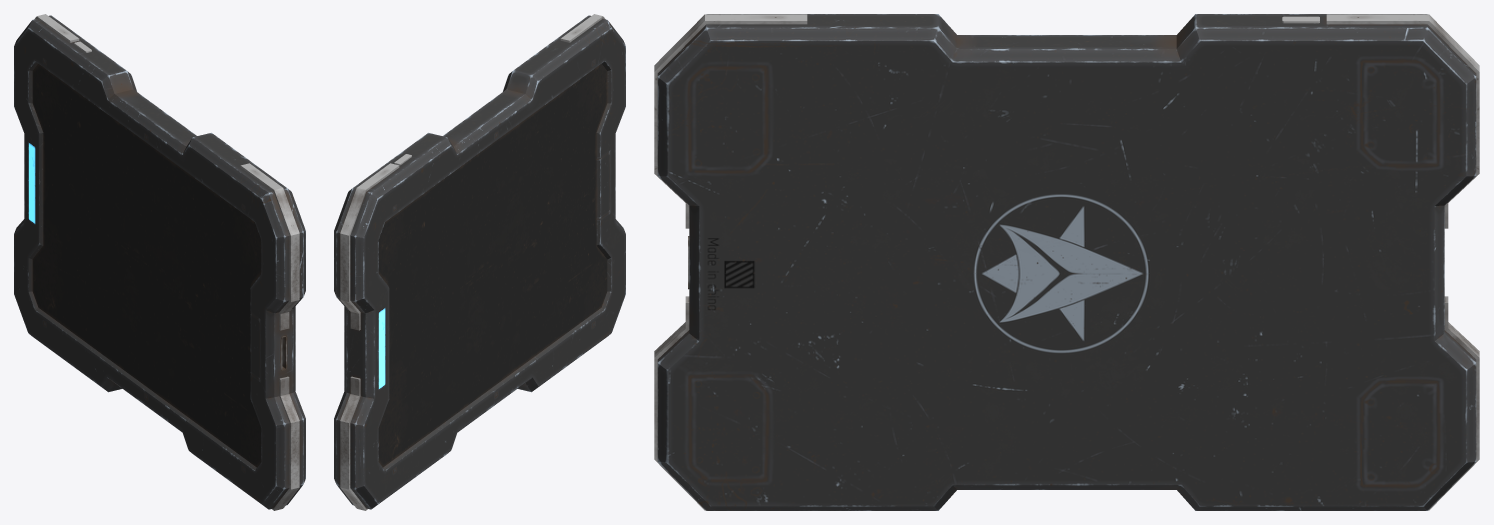
The model's file is tablet_display.glb.
The picture shows the model from 3 angles, left to right: view 1: azimuth 30°, elevation 25°; view 2: azimuth 150°, elevation 25°; view 3: azimuth 270°, elevation 25°; orthographic projection. The views are drawn at different scales.
Parts seen in each view (by area): view 1: LP1, LP2; view 2: LP1, LP2; view 3: LP1, LP2.
Boxes of the visible parts, x1=… form: LP1: x1=14, y1=15, x2=305, y2=509; LP2: x1=34, y1=14, x2=299, y2=510; LP1: x1=334, y1=15, x2=625, y2=509; LP2: x1=340, y1=14, x2=605, y2=510; LP1: x1=657, y1=14, x2=1476, y2=510; LP2: x1=654, y1=14, x2=1479, y2=510.
Bounding box in the file's own units: 0.0178 × 0.1814 × 0.2773.
Materials: 1 (1 with a texture image).
